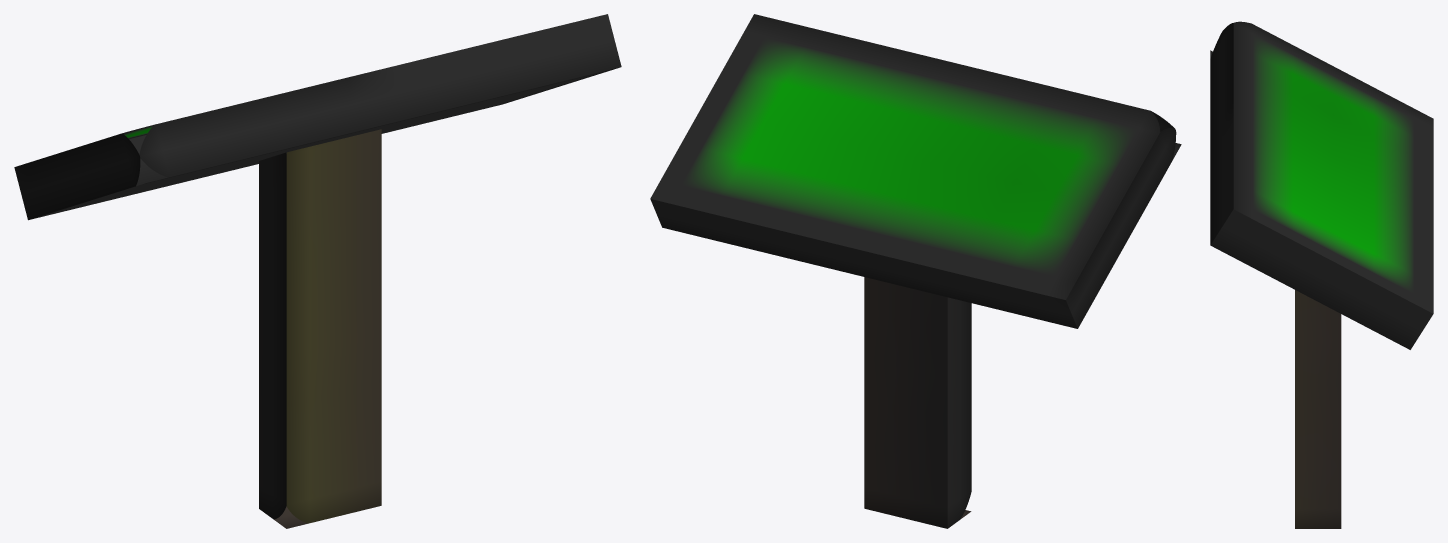
The model's file is launcher_control_panel_t1.obj.
The picture shows the model from 3 angles, left to right: view 1: azimuth 30°, elevation 25°; view 2: azimuth 150°, elevation 25°; view 3: azimuth 270°, elevation 25°; orthographic projection. The views are drawn at different scales.
Visible parts, largest first — view 1: Stand, Screen; view 2: Screen, Stand; view 3: Screen, Stand.
Part boxes in pixels (x1=…): Stand: x1=259, y1=129, x2=381, y2=528; Screen: x1=14, y1=14, x2=621, y2=220; Screen: x1=650, y1=14, x2=1181, y2=328; Stand: x1=864, y1=277, x2=971, y2=528; Screen: x1=1210, y1=21, x2=1433, y2=349; Stand: x1=1295, y1=290, x2=1341, y2=528.
Bounding box in the file's own units: 0.625 × 0.5938 × 0.3019.
